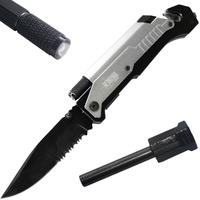knife: (1, 21, 187, 199)
